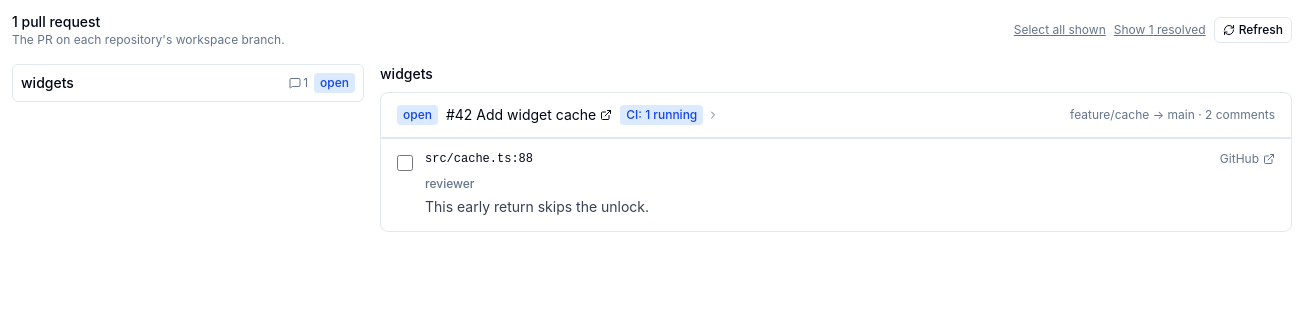
it: PullRequestsView › CI status › headlines a running check over a queued one
The image size is (1304, 327).
Expected: the text "CI: 1 running" is shown, [620,105,703,125]
Expected: the text "queued" is not shown
Click the button with aria-label "toggle check details": [670, 115] box [620,105,719,125]
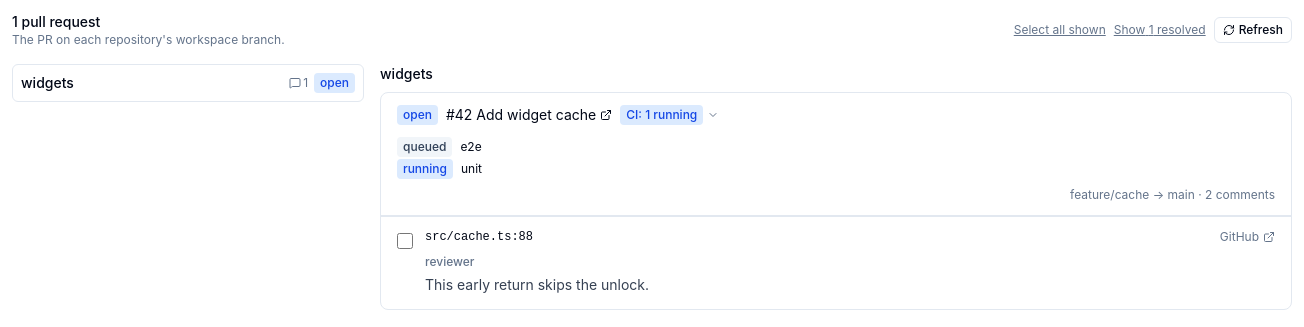
Expected: the text "queued" is shown, [397,137,452,157]
Expected: the text "running" is shown, [397,159,453,179]
